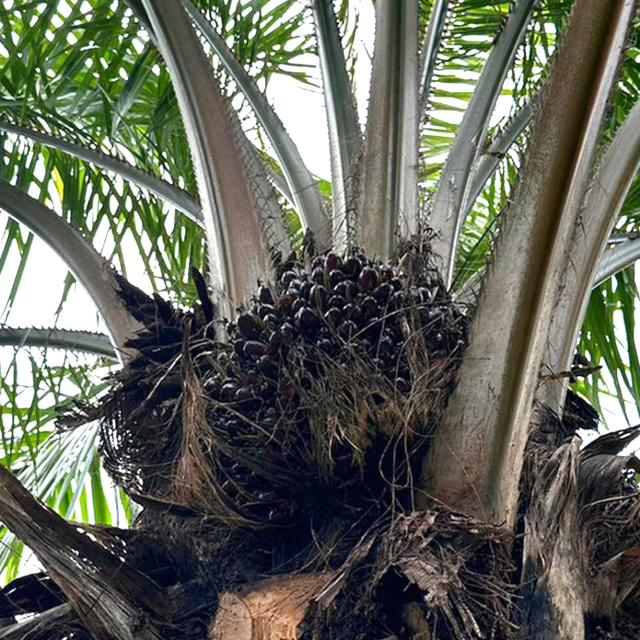ripe: (208, 242, 464, 507)
